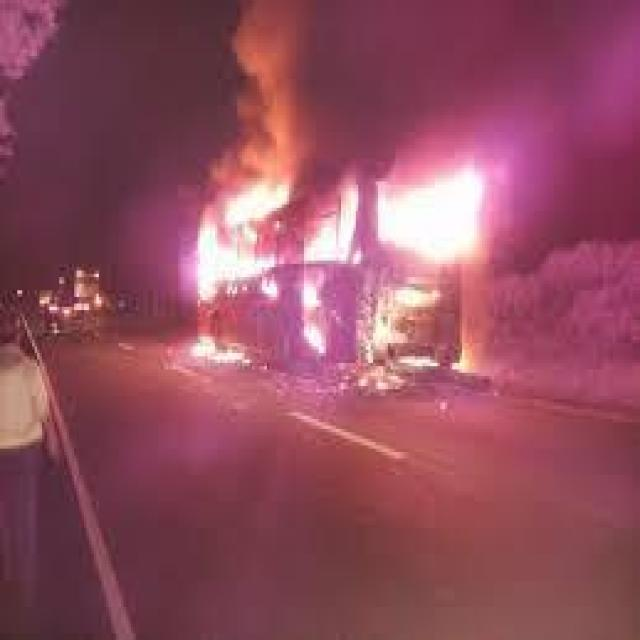fire: (147, 122, 520, 388)
